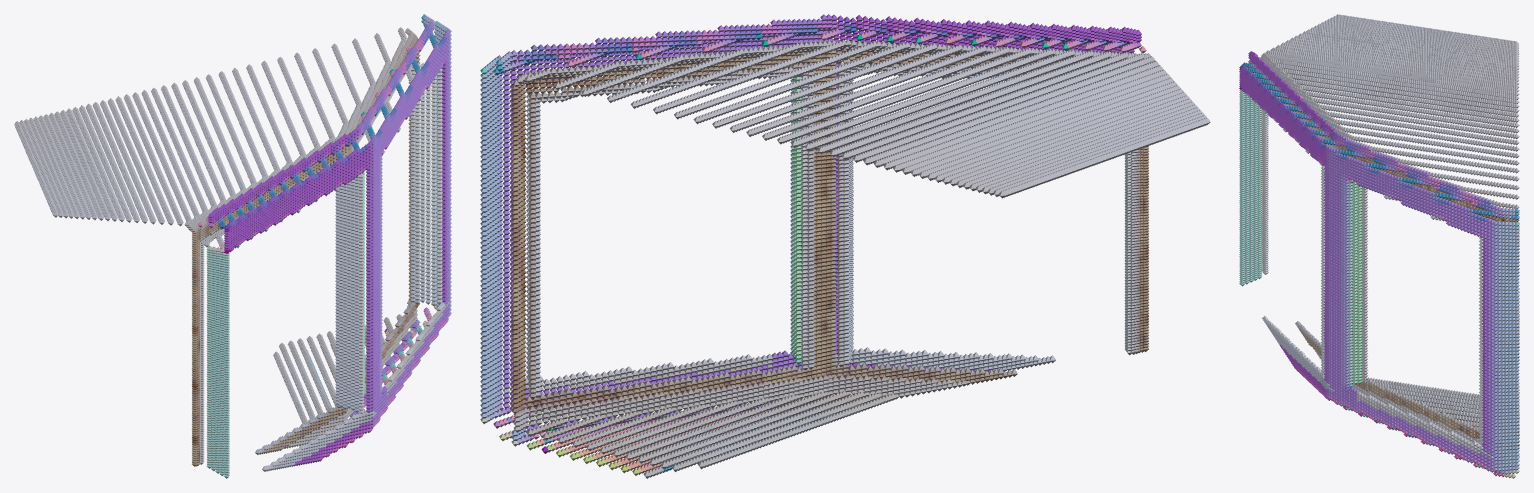
The model's file is combine_gt.glb.
3 views of the same model, side by side, from view 1: azimuth 30°, elevation 25°; view 2: azimuth 150°, elevation 25°; view 3: azimuth 270°, elevation 25° (orthographic). The views are drawn at different scales.
Visible parts, largest first — view 1: world; view 2: world; view 3: world.
Boxes of the visible parts, <box> form: world: <box>14,14,451,478</box>; world: <box>480,14,1210,478</box>; world: <box>1239,14,1519,478</box>.
Size of the model in its own units: 4.65 by 2.86 by 2.65.
